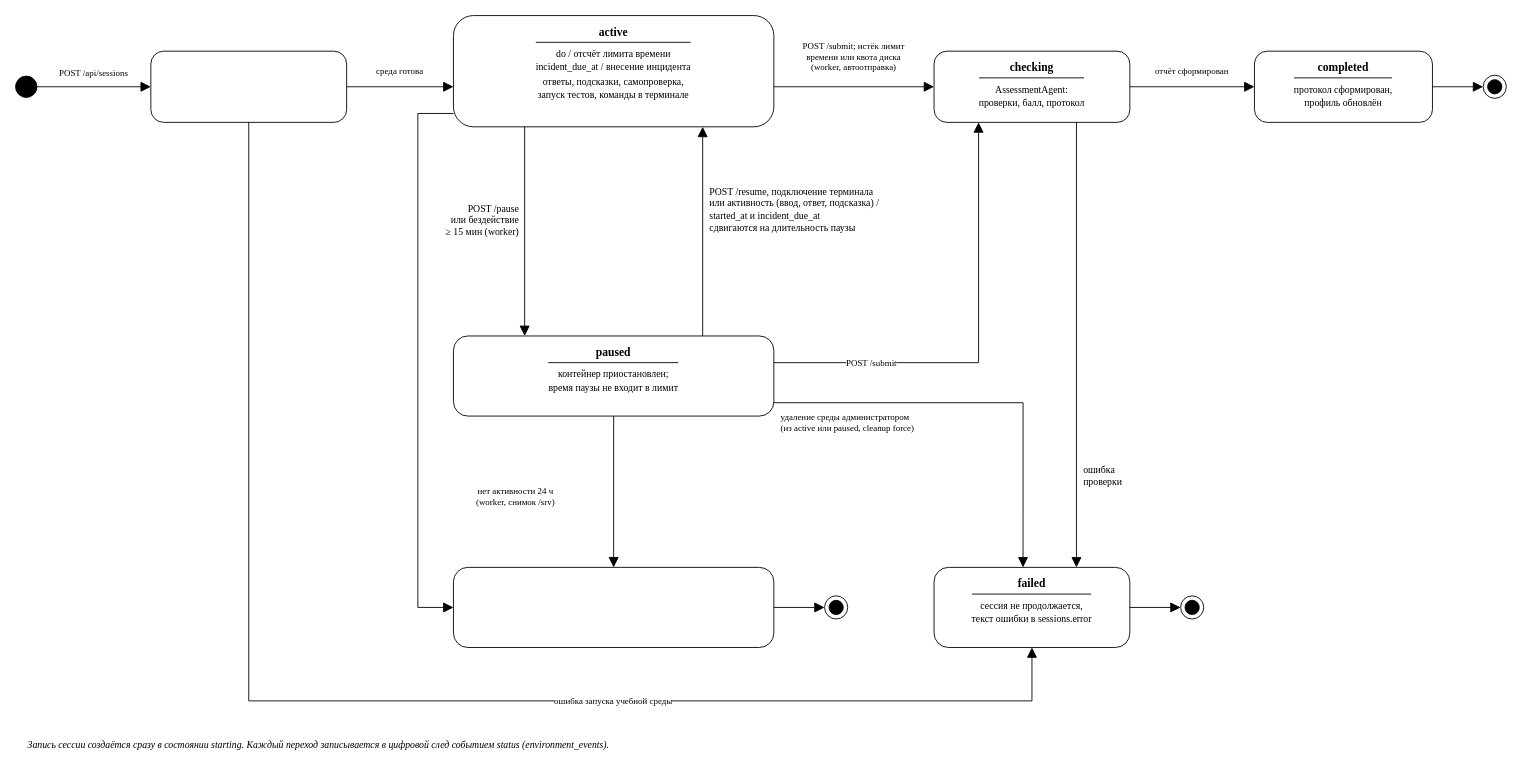
Some shapes in this 1522 by 779 pixel diagram are drawn without their labels. Here are the shapes that lost their labels. From the top down, the box of each, then its label:
(150, 50, 347, 122): starting подготовка учебной среды: контейнер и начальный сбой или файлы задания
(453, 566, 774, 647): expired снимок /srv сохранён, контейнер удалён
